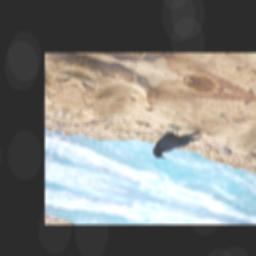Crow: (150, 120, 204, 169)
